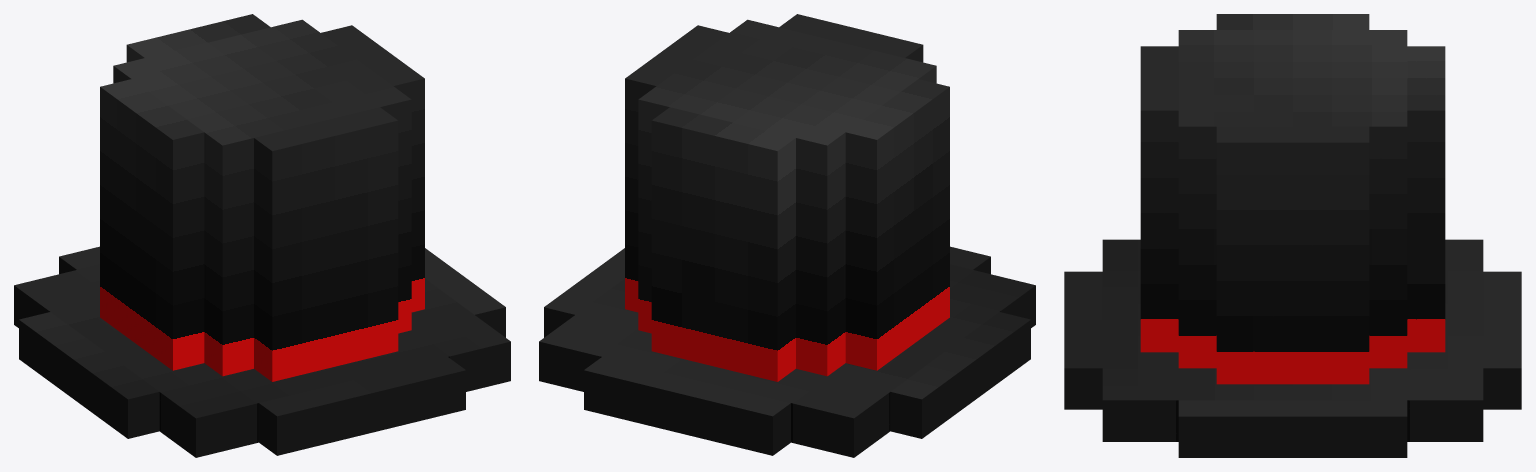
The model's file is accessory_gentleman_hat.glb.
3 views of the same model, side by side, from view 1: azimuth 30°, elevation 25°; view 2: azimuth 150°, elevation 25°; view 3: azimuth 270°, elevation 25° (orthographic). The views are drawn at different scales.
Parts seen in each view (by area): view 1: cube_8, cube_6, cube_9, cube_1, cube_5, cube_2, cube_10, cube_4, cube_7, cube_3; view 2: cube_7, cube_6, cube_9, cube_1, cube_3, cube_2, cube_10, cube_4, cube_8, cube_5; view 3: cube_6, cube_10, cube_1, cube_4, cube_7, cube_8, cube_3, cube_5, cube_9.
Boxes of the visible parts, box(x1,y1,x2,y2) form: cube_8: box(254, 107, 398, 381); cube_6: box(113, 19, 411, 376); cube_9: box(100, 79, 204, 370); cube_1: box(14, 264, 510, 457); cube_5: box(259, 357, 465, 455); cube_2: box(19, 312, 159, 438); cube_10: box(321, 25, 424, 312); cube_4: box(425, 248, 505, 337); cube_7: box(126, 14, 270, 62); cube_3: box(59, 246, 99, 274); cube_7: box(651, 107, 795, 381); cube_6: box(638, 19, 936, 376); cube_9: box(845, 79, 949, 370); cube_1: box(539, 264, 1035, 457); cube_3: box(584, 357, 790, 455); cube_2: box(890, 312, 1030, 438); cube_10: box(625, 25, 728, 312); cube_4: box(544, 248, 624, 337); cube_8: box(779, 14, 923, 62); cube_5: box(950, 246, 990, 274); cube_6: box(1178, 30, 1407, 368); cube_10: box(1216, 126, 1369, 384); cube_1: box(1102, 239, 1483, 441); cube_4: box(1178, 400, 1407, 457); cube_7: box(1407, 46, 1445, 352); cube_8: box(1140, 46, 1178, 352); cube_3: box(1483, 271, 1521, 409); cube_5: box(1064, 271, 1102, 409); cube_9: box(1216, 14, 1369, 29).
Size of the model in its own units: 1.16 by 0.7957 by 1.16.
Materials: 1 (1 with a texture image).
